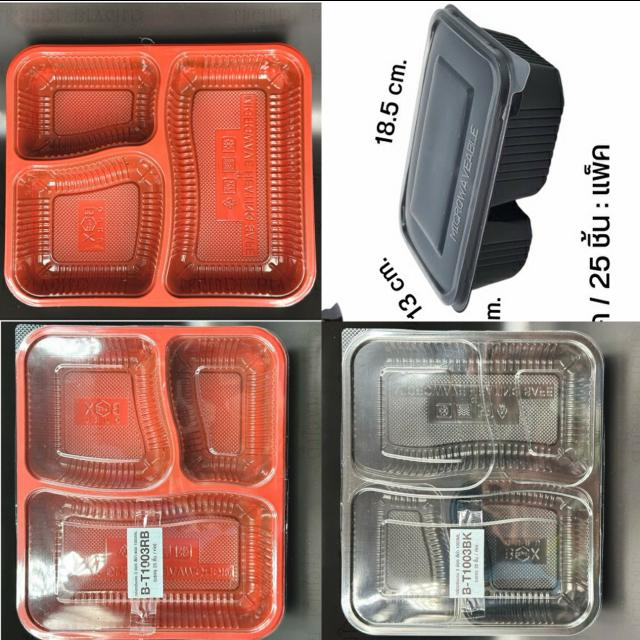plastik: (16, 324, 286, 639), (6, 44, 315, 305), (342, 328, 603, 634), (400, 5, 563, 310)
